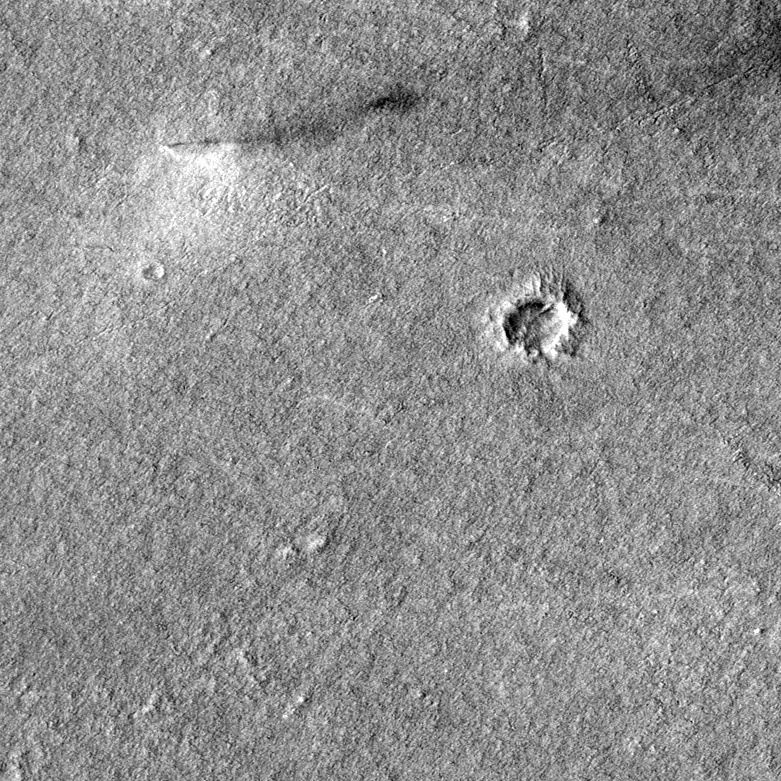dust_devil: (156, 84, 423, 192)
